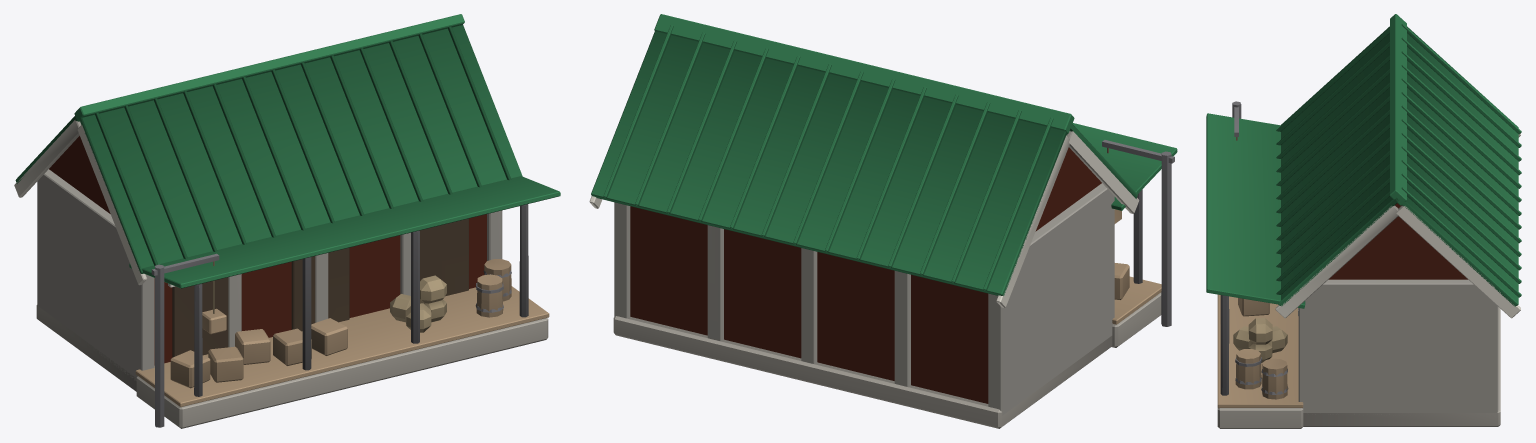
File: bld_sklad.glb
3 renders of one model, left to right at view 1: azimuth 30°, elevation 25°; view 2: azimuth 150°, elevation 25°; view 3: azimuth 270°, elevation 25°, orthographic. The views are drawn at different scales.
Parts seen in each view (by area): view 1: sklad; view 2: sklad; view 3: sklad.
Boxes of the visible parts, x1,y1,x2,y2 form: sklad: (14, 14, 560, 428); sklad: (589, 14, 1177, 428); sklad: (1206, 14, 1521, 428).
Size of the model in its own units: 1.81 by 1.13 by 1.33.
